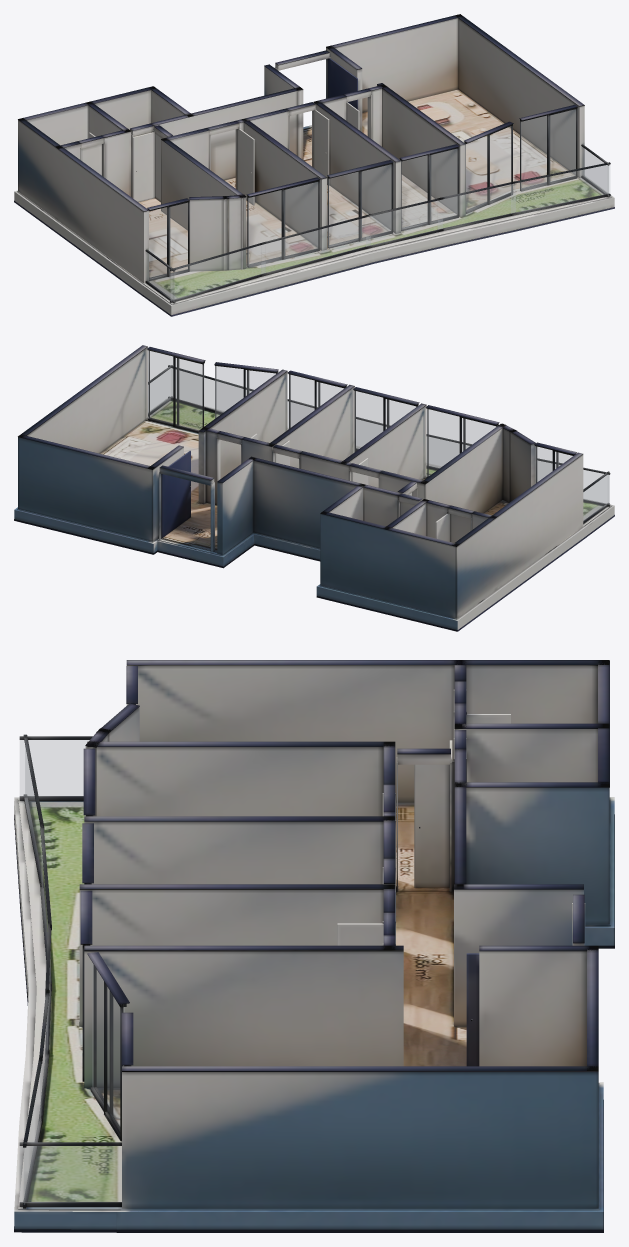
The picture shows the model from 3 angles, top to bottom: view 1: azimuth 30°, elevation 25°; view 2: azimuth 150°, elevation 25°; view 3: azimuth 270°, elevation 25°; orthographic projection. The views are drawn at different scales.
Parts seen in each view (by area): view 1: plan, glass1_m, glass2_m, glass5_m, glass3_m, railg5_m, railg2_m, railg6_m, glass4_m, glass0_m, railg3_m, railg4_m (+2 smaller); view 2: plan, glass5_m, glass1_m, glass2_m, railg2_m, glass4_m, glass3_m, railg6_m, railg1_m, railg5_m, glass0_m, railg0_m (+1 smaller); view 3: plan, railg0_m, railg1_m, glass4_m, railg6_m, railg2_m.
Boxes of the visible parts, left/top/right/bottom form: plan: left=14, top=14, right=614, bottom=316; glass1_m: left=248, top=182, right=317, bottom=265; glass2_m: left=328, top=164, right=391, bottom=245; glass5_m: left=521, top=109, right=575, bottom=188; glass3_m: left=401, top=149, right=457, bottom=228; railg5_m: left=261, top=216, right=370, bottom=273; railg2_m: left=511, top=165, right=609, bottom=213; railg6_m: left=170, top=244, right=265, bottom=300; glass4_m: left=465, top=126, right=510, bottom=211; glass0_m: left=149, top=203, right=187, bottom=278; railg3_m: left=438, top=183, right=515, bottom=229; railg4_m: left=366, top=200, right=442, bottom=246; plan: left=14, top=345, right=614, bottom=631; glass5_m: left=148, top=350, right=202, bottom=430; glass1_m: left=427, top=409, right=495, bottom=476; glass2_m: left=354, top=391, right=415, bottom=451; railg2_m: left=171, top=368, right=251, bottom=411; glass4_m: left=215, top=366, right=275, bottom=418; glass3_m: left=289, top=374, right=343, bottom=428; railg6_m: left=538, top=461, right=609, bottom=504; railg1_m: left=583, top=475, right=608, bottom=520; railg5_m: left=429, top=437, right=468, bottom=467; glass0_m: left=535, top=446, right=572, bottom=482; railg0_m: left=150, top=369, right=170, bottom=411; plan: left=14, top=660, right=614, bottom=1232; railg0_m: left=20, top=1146, right=121, bottom=1202; railg1_m: left=20, top=740, right=89, bottom=796; glass4_m: left=92, top=963, right=124, bottom=1130; railg6_m: left=25, top=747, right=42, bottom=885; railg2_m: left=24, top=1071, right=40, bottom=1204.
Size of the model in its own units: 14.64 by 2.62 by 8.95.
Materials: 2 (1 with a texture image).
